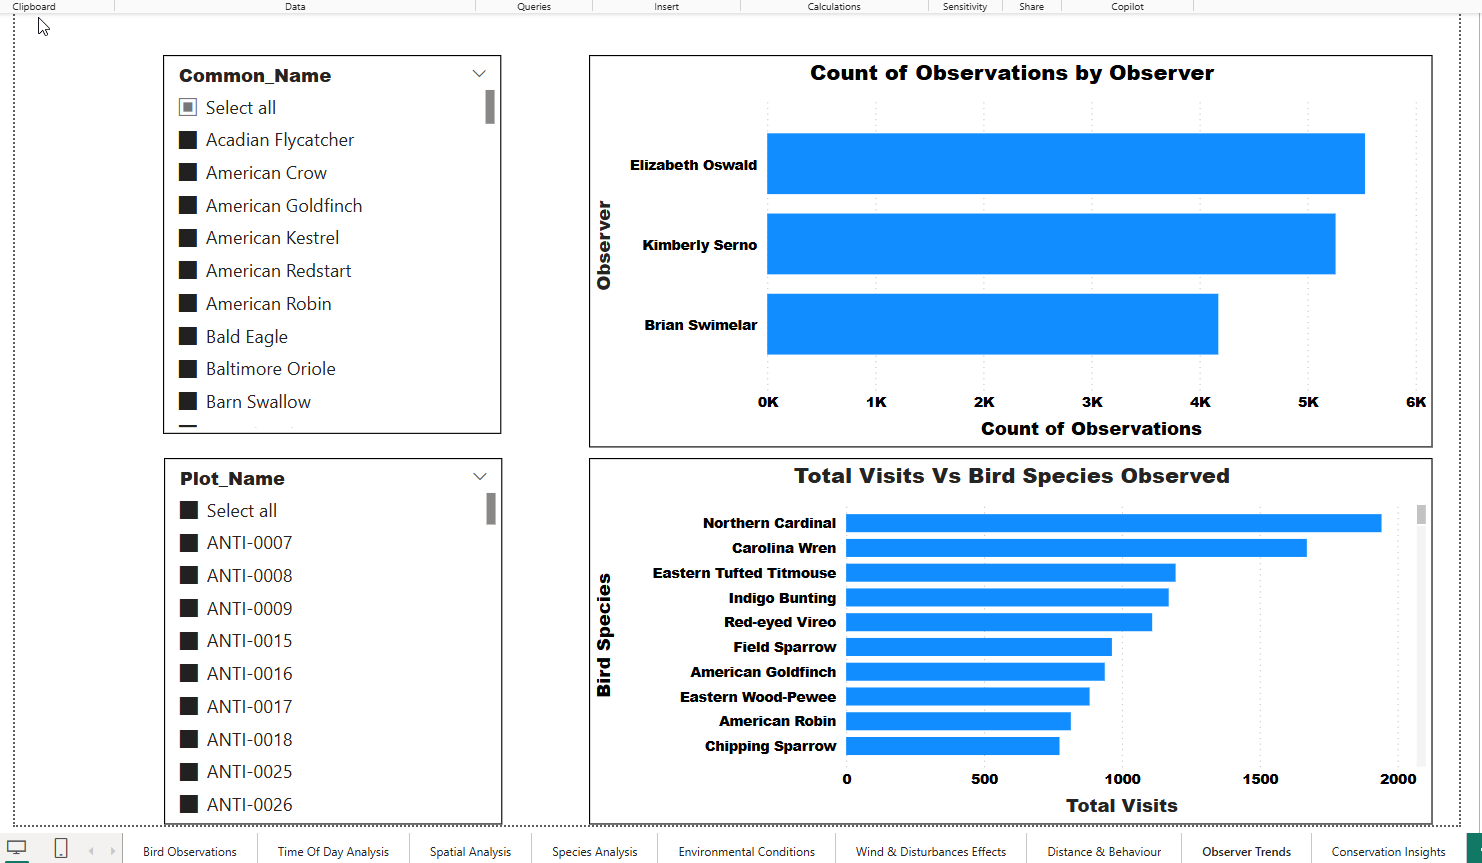

The page's visual inventory and layout, read from the dashboard file:
{"tool":"powerbi","page":{"name":"Observer Trends","canvas":[1280,720],"ordinal":7},"visuals":[{"type":"clusteredBarChart","title":"Count of Observations by Observer","fields":{"Y":["CountNonNull(All_Bird_Observations.Observation_ID)"],"Category":["All_Bird_Observations.Observer"]},"box":[509.3,36.9,747.9,348.4],"z":0},{"type":"slicer","fields":{"Values":["All_Bird_Observations.Common_Name"]},"box":[131.6,36.9,300.1,336.1],"z":1000},{"type":"clusteredBarChart","title":"Total Visits Vs Bird Species Observed","fields":{"Y":["Sum(All_Bird_Observations.Visit)"],"Category":["All_Bird_Observations.Common_Name"]},"box":[509.3,394.8,747.9,324.7],"z":2000},{"type":"slicer","fields":{"Values":["All_Bird_Observations.Plot_Name"]},"box":[132,395,300,325],"z":3000}]}

Visuals, with their boxes on the page's 1280x720 design canvas (x1, y1, x2, y2). These are canvas units, not pixel positions in the 1482x863 screenshot, which may show the page scaled, cropped or inside an application window:
"Count of Observations by Observer" clusteredBarChart: {"left": 509, "top": 37, "right": 1257, "bottom": 385}
slicer - All_Bird_Observations.Common_Name: {"left": 132, "top": 37, "right": 432, "bottom": 373}
"Total Visits Vs Bird Species Observed" clusteredBarChart: {"left": 509, "top": 395, "right": 1257, "bottom": 720}
slicer - All_Bird_Observations.Plot_Name: {"left": 132, "top": 395, "right": 432, "bottom": 720}
